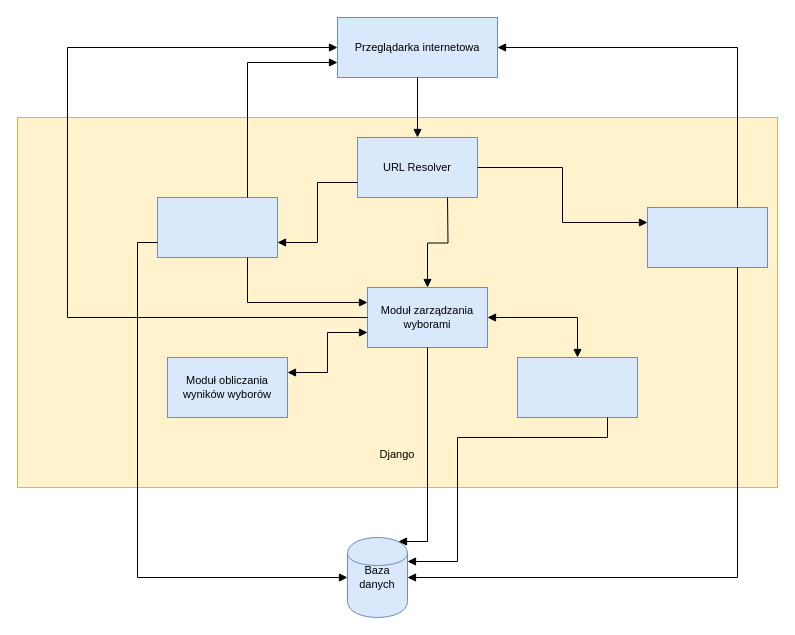
The diagram is 795 pixels wide and 635 high, and some of its shapes have lost their labels. The shapes that lost their labels are listed below. From the top down, each one's centre as x and y in pixels, then its label:
the point at 217,227: Moduł generacji i wczytywania wyborów
the point at 707,237: Moduł administracji kont
the point at 577,387: Moduł wizualizacji wyborów i wyników wyborów
